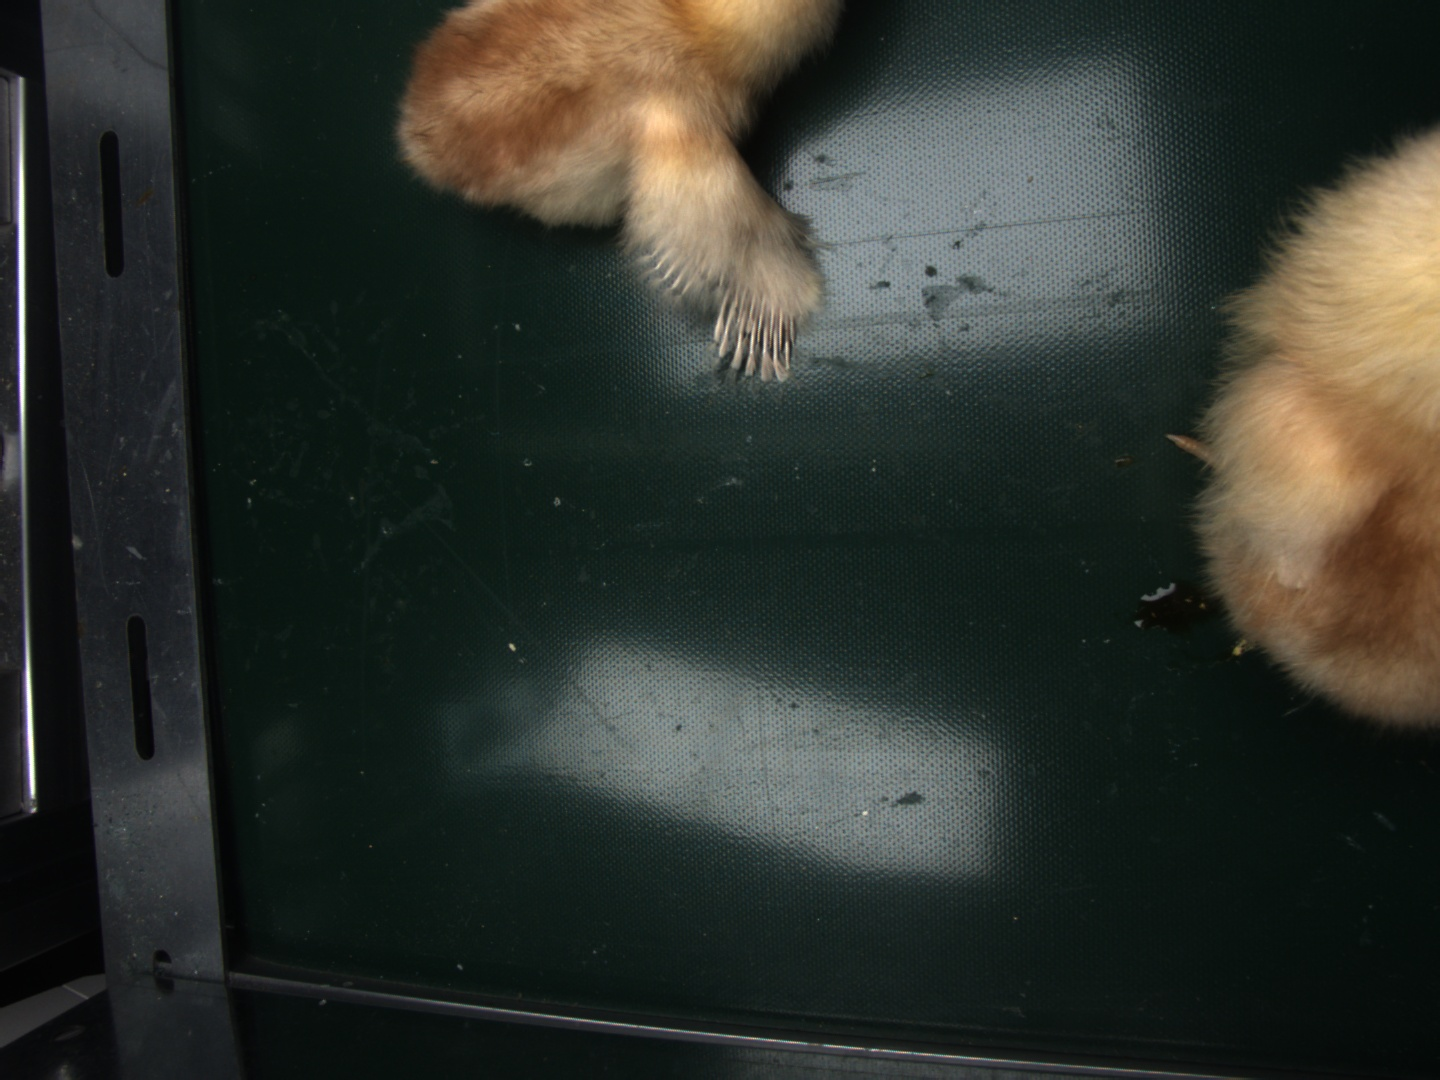female: (713, 282, 797, 380)
